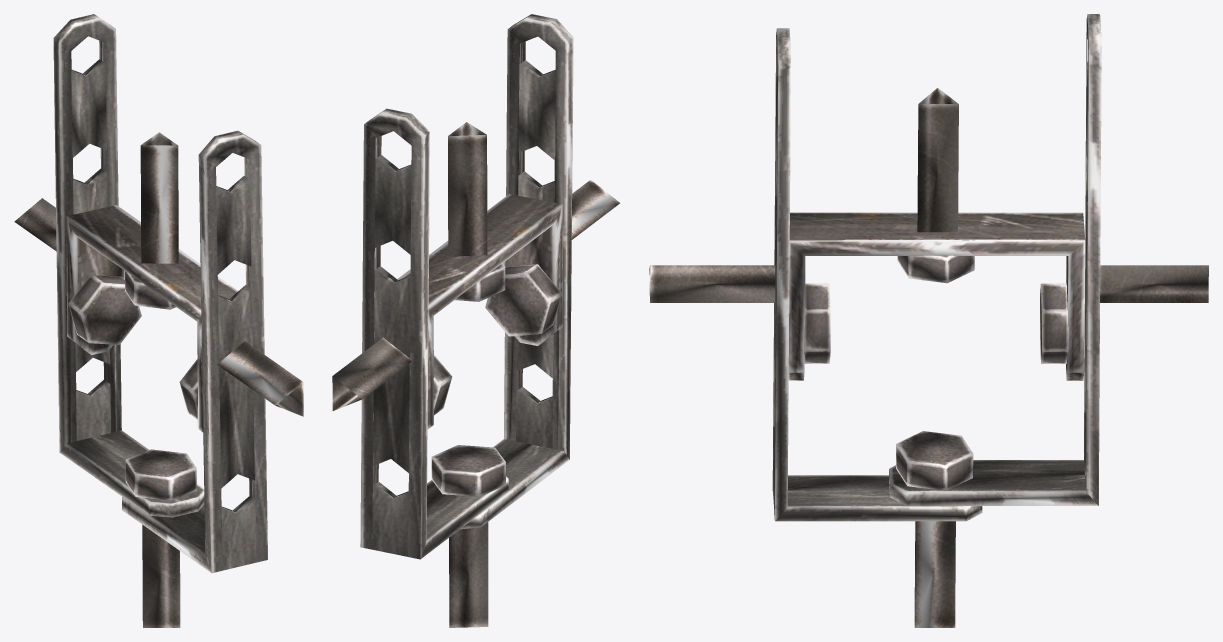
File: Robot01.Chest2.fbx
3 renders of one model, left to right at view 1: azimuth 30°, elevation 25°; view 2: azimuth 150°, elevation 25°; view 3: azimuth 270°, elevation 25°, orthographic. The views are drawn at different scales.
Parts seen in each view (by area): view 1: mesh_1083; view 2: mesh_1083; view 3: mesh_1083.
Part boxes in pixels (x1=…): mesh_1083: x1=14, y1=14, x2=303, y2=627; mesh_1083: x1=332, y1=14, x2=619, y2=627; mesh_1083: x1=649, y1=14, x2=1208, y2=627.
Bounding box in the file's own units: 11.48 × 91.88 × 77.56.
